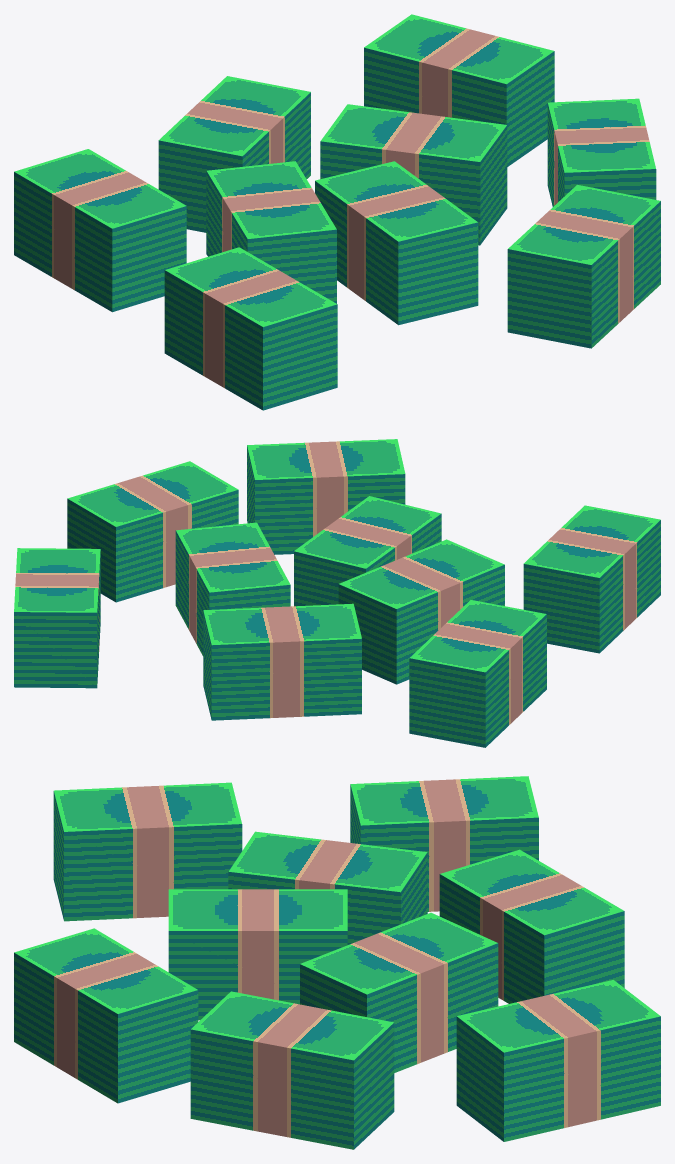
Rendered from MoneyResource.fbx.
3 views of the same model, one above another, from view 1: azimuth 30°, elevation 25°; view 2: azimuth 150°, elevation 25°; view 3: azimuth 270°, elevation 25° (orthographic). The views are drawn at different scales.
Parts seen in each view (by area): view 1: StackOfMoney; view 2: StackOfMoney; view 3: StackOfMoney.
Boxes of the visible parts, x1,y1,x2,y2 form: StackOfMoney: (14, 14, 660, 410); StackOfMoney: (14, 439, 660, 747); StackOfMoney: (14, 776, 660, 1149).
Bounding box in the file's own units: 170 × 24.94 × 164.
